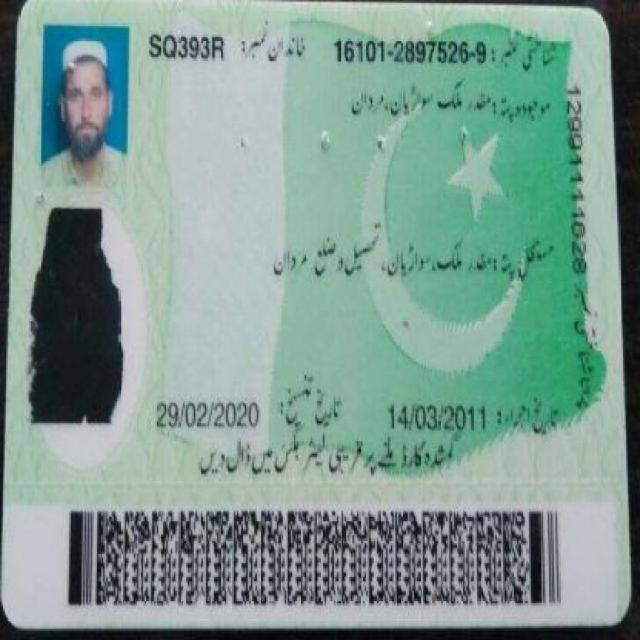Back: (12, 8, 617, 622)
